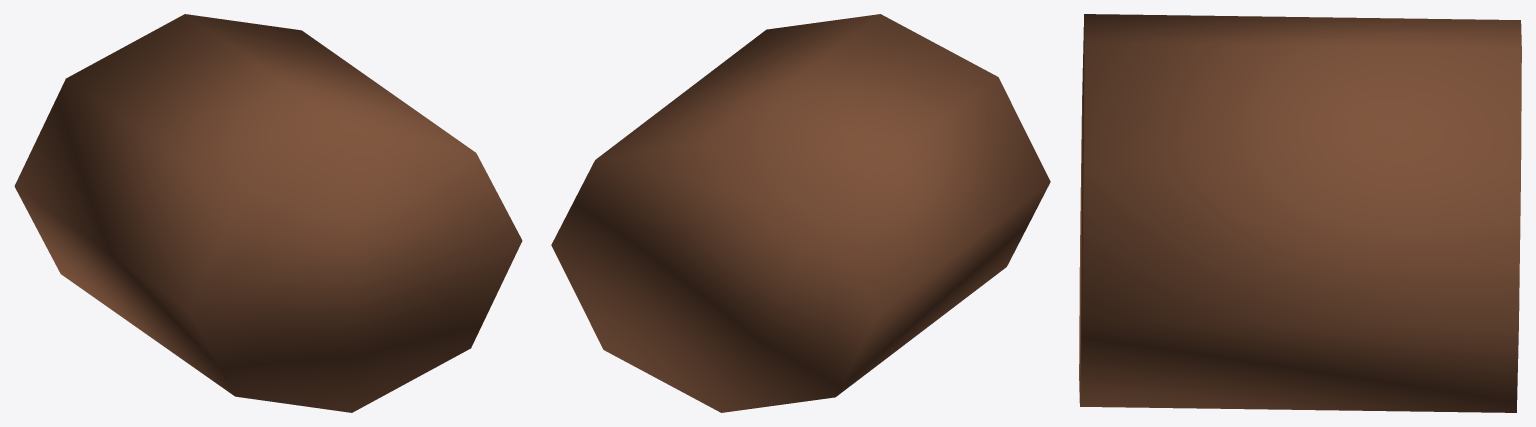
Rendered from SM_W02_Climber_Fist_R.fbx.
3 views of the same model, side by side, from view 1: azimuth 30°, elevation 25°; view 2: azimuth 150°, elevation 25°; view 3: azimuth 270°, elevation 25° (orthographic). The views are drawn at different scales.
Parts seen in each view (by area): view 1: SM_W02_Climber_Fist_R; view 2: SM_W02_Climber_Fist_R; view 3: SM_W02_Climber_Fist_R.
Part boxes in pixels (x1,y1,x2,y2): SM_W02_Climber_Fist_R: (14, 14, 522, 412); SM_W02_Climber_Fist_R: (551, 14, 1050, 412); SM_W02_Climber_Fist_R: (1079, 14, 1521, 412).
Bounding box in the file's own units: 0.21 × 0.1926 × 0.1667.
